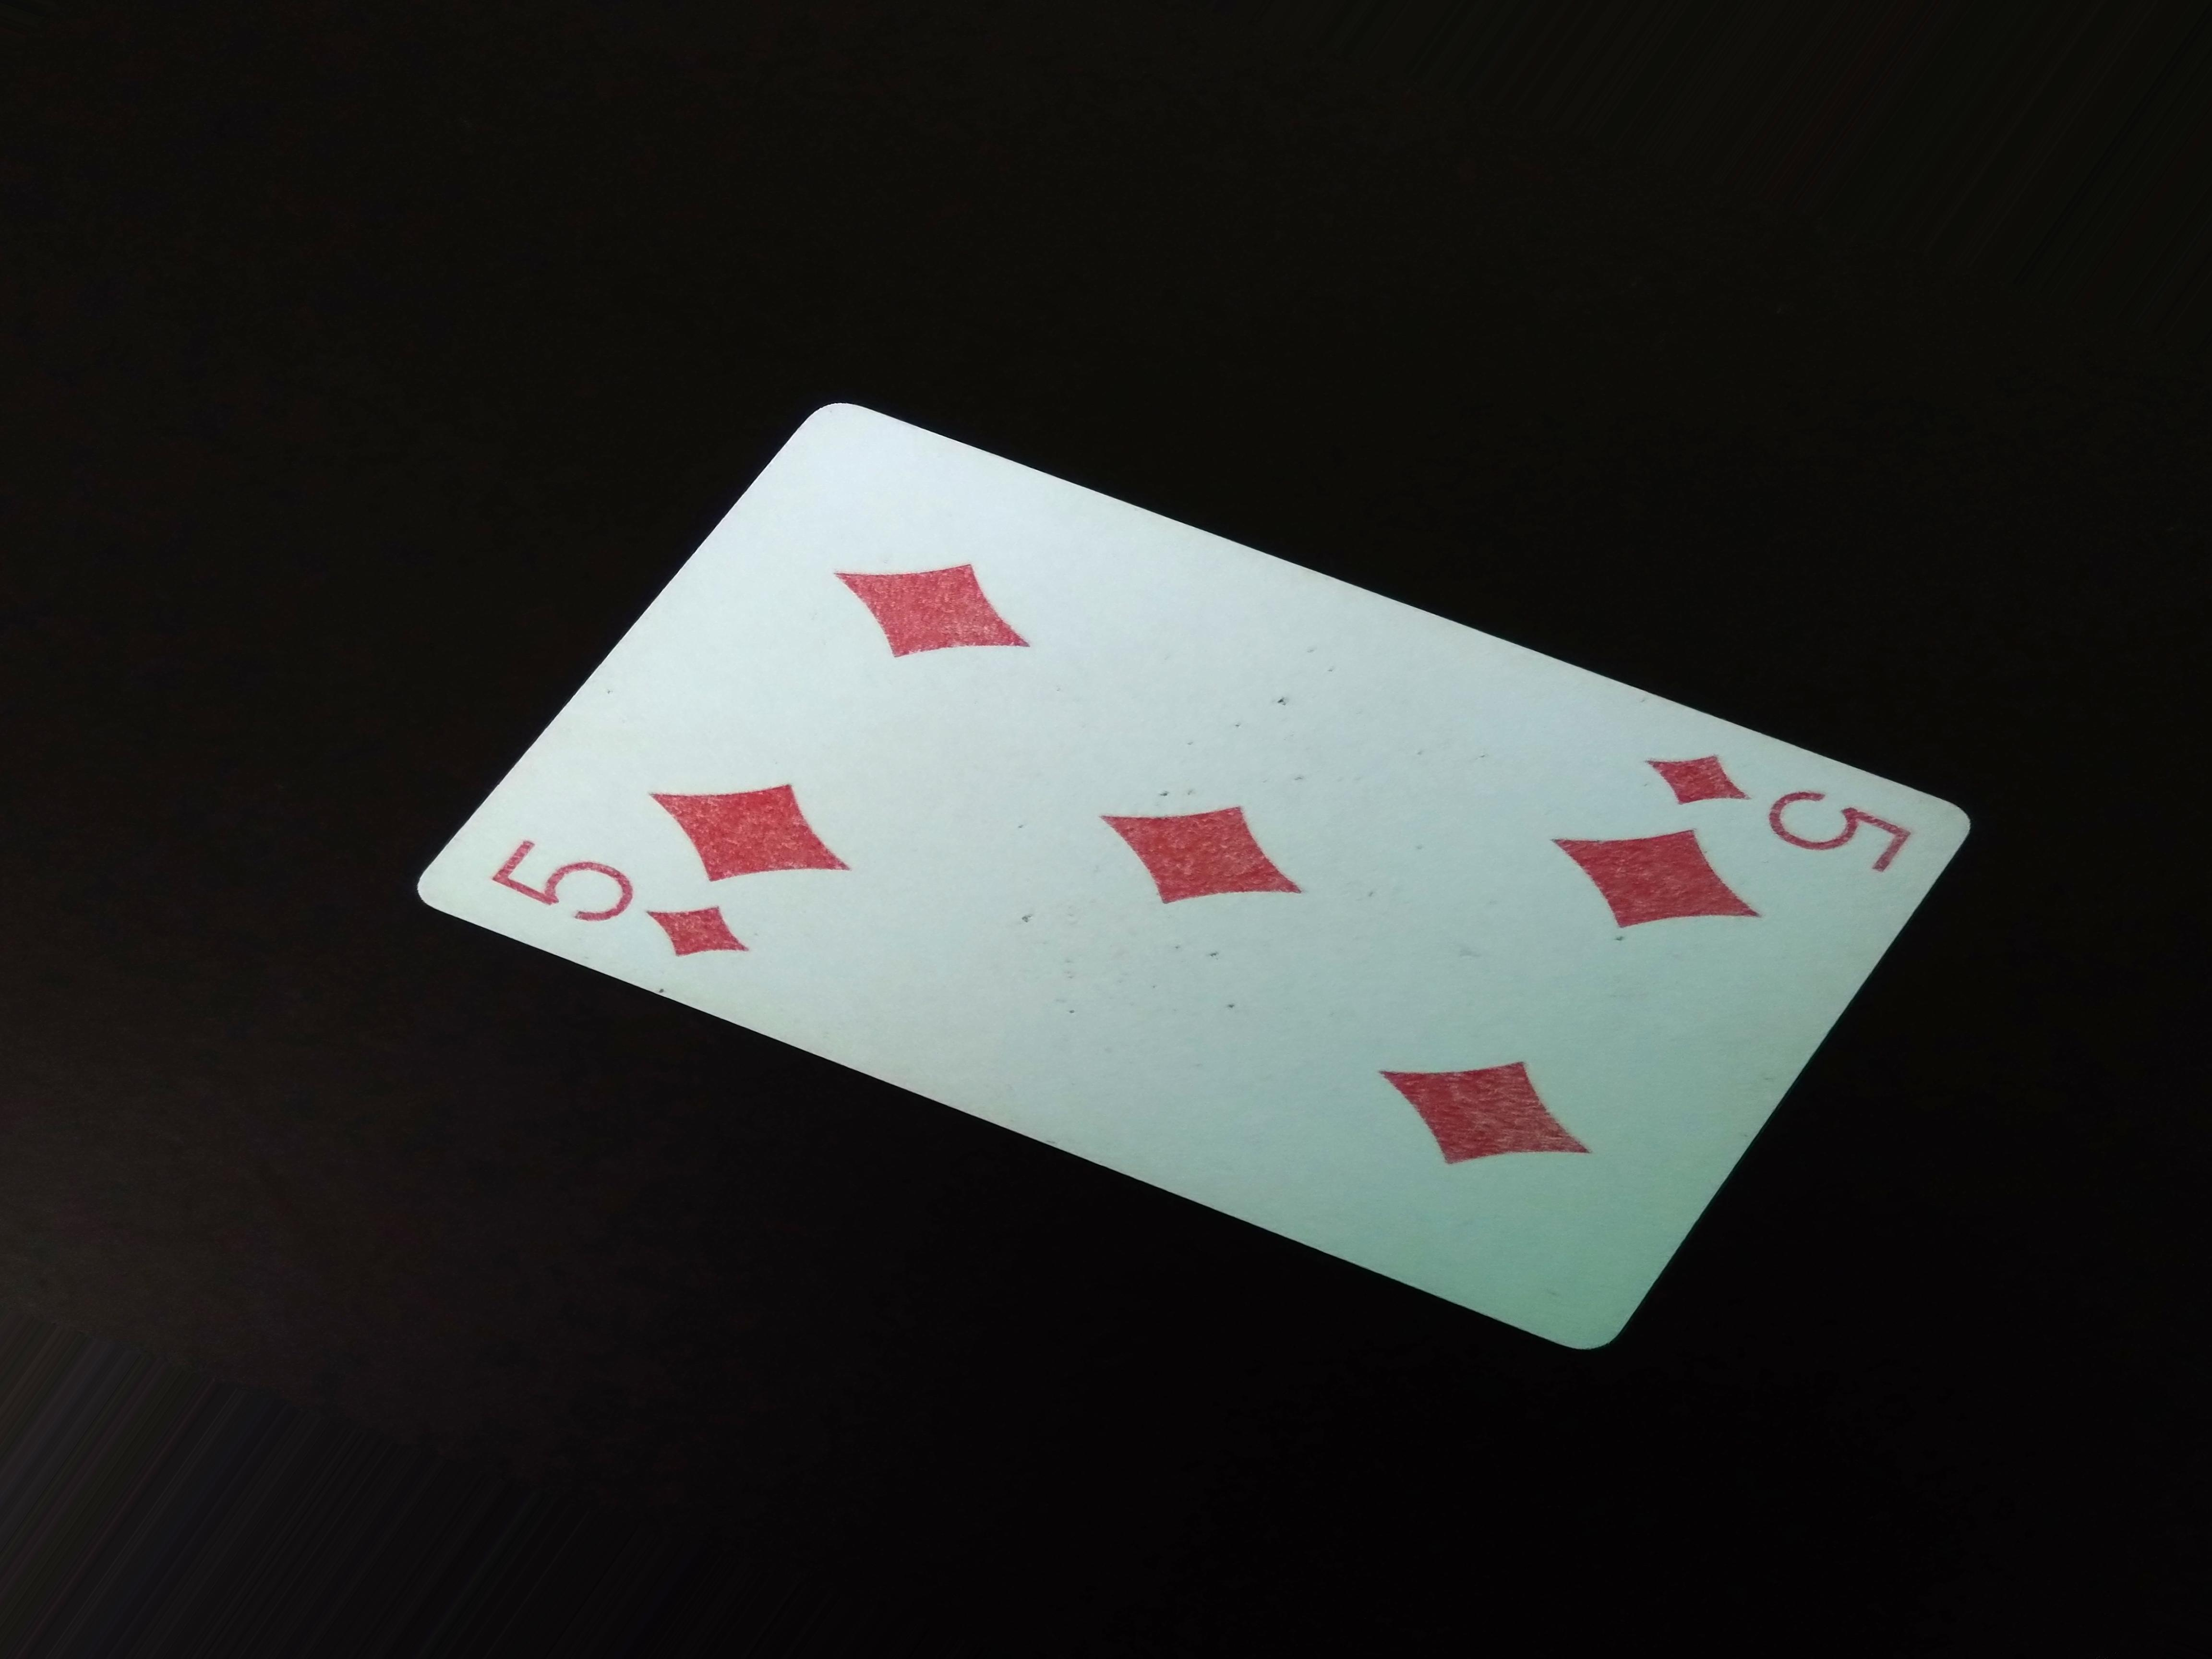5D: (474, 829, 744, 969)
